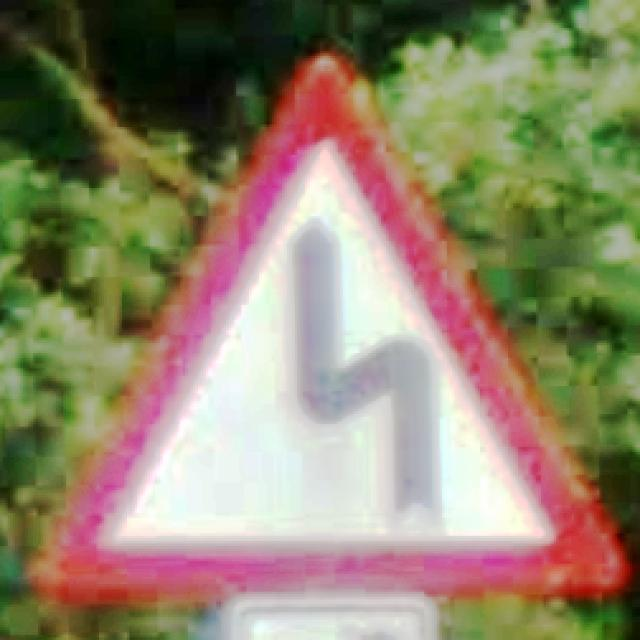doublebendleft: (51, 56, 627, 594)
